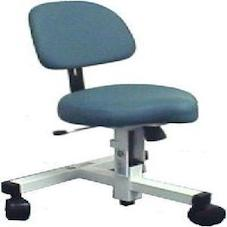chair: (1, 1, 226, 224)
